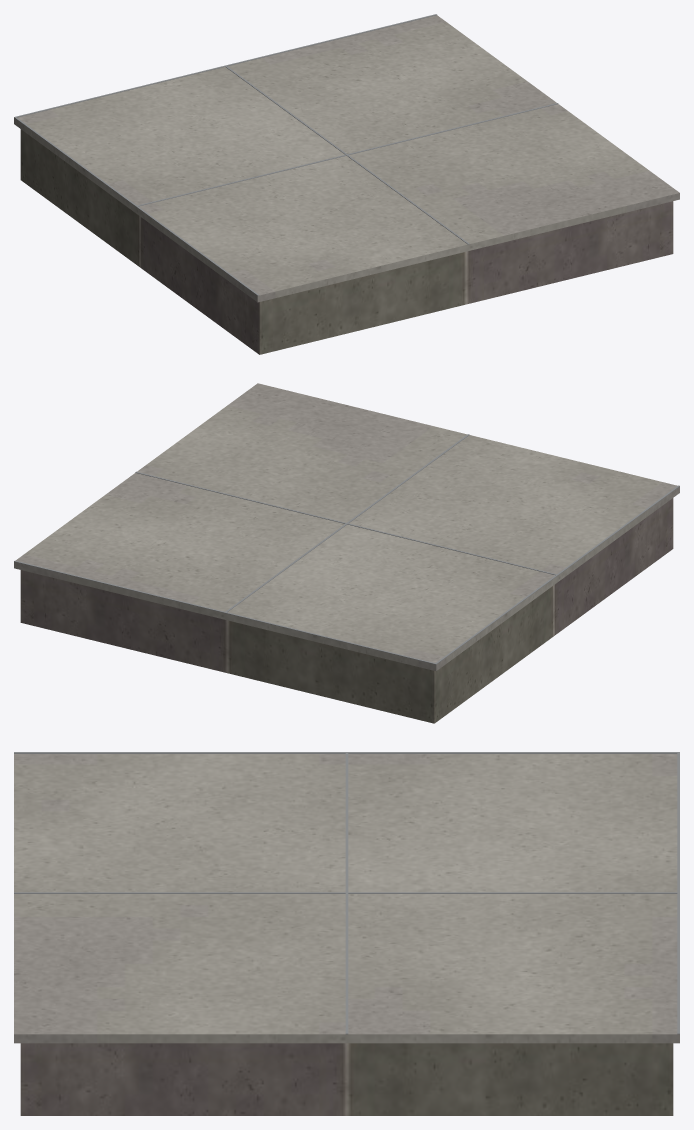
Rendered from floor_hall_g.glb.
3 views of the same model, one above another, from view 1: azimuth 30°, elevation 25°; view 2: azimuth 150°, elevation 25°; view 3: azimuth 270°, elevation 25° (orthographic). The views are drawn at different scales.
Visible parts, largest first — view 1: floor_hall_g_concrete, floor_hall_g_plinth, floor_hall_g_seam; view 2: floor_hall_g_concrete, floor_hall_g_plinth, floor_hall_g_seam; view 3: floor_hall_g_concrete, floor_hall_g_plinth, floor_hall_g_seam.
Part boxes in pixels (x1,y1,x2,y2): floor_hall_g_concrete: (14, 15, 679, 302); floor_hall_g_plinth: (20, 129, 673, 354); floor_hall_g_seam: (14, 14, 558, 295); floor_hall_g_concrete: (14, 383, 679, 670); floor_hall_g_plinth: (20, 498, 673, 723); floor_hall_g_seam: (14, 434, 679, 664); floor_hall_g_concrete: (14, 754, 679, 1043); floor_hall_g_plinth: (20, 1043, 673, 1115); floor_hall_g_seam: (14, 752, 679, 1034).
Bounding box in the file's own units: 2 × 0.282 × 2.
3 materials, 2 textured.
